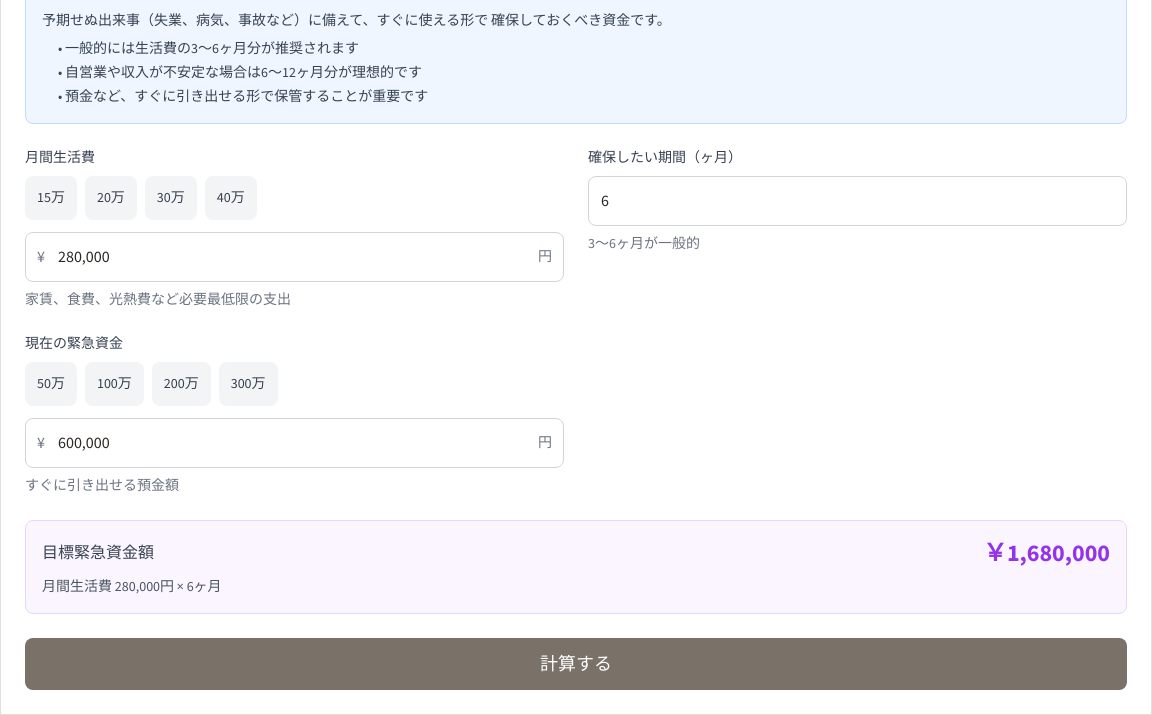
EmergencyFundCalculator › 結果表示 › 不足時に警告メッセージが表示される
(page scrolled)
What coordinates should you click on to do the following:
click the button "計算する"
I would click on:
 (576, 664)
Its box is 25,638 -> 1127,690.
(page scrolled)
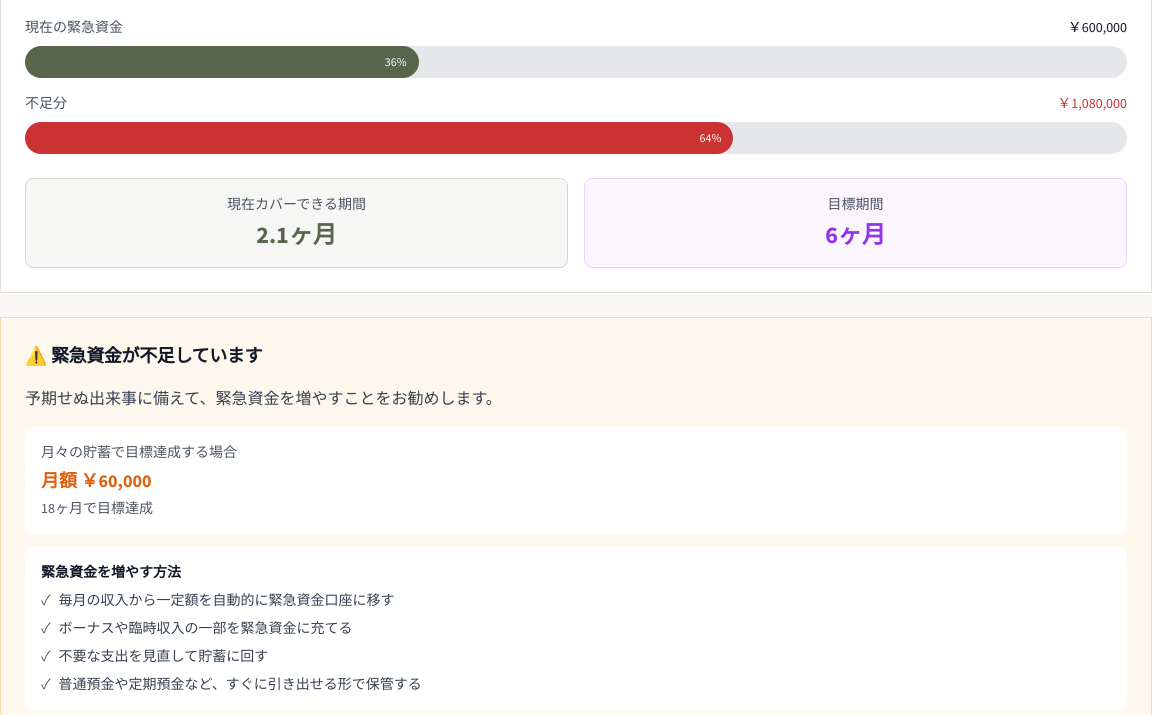
Result: the heading "⚠️ 緊急資金が不足しています" is shown at 25,345 -> 262,367
